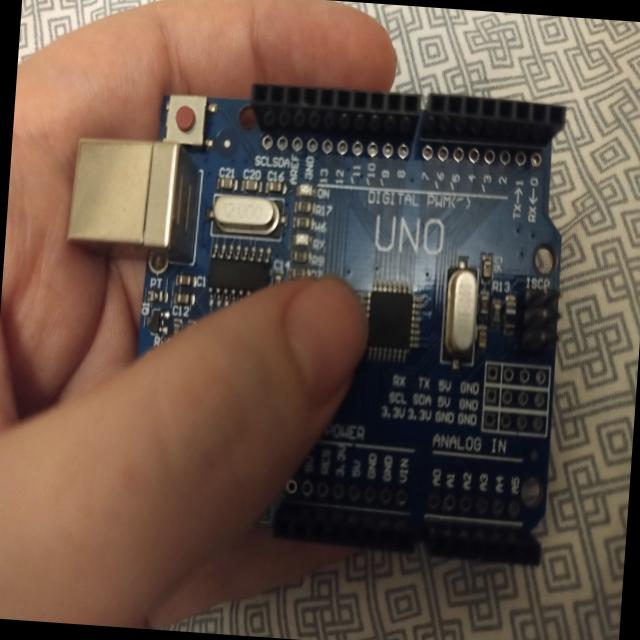arduino: (34, 74, 585, 572)
